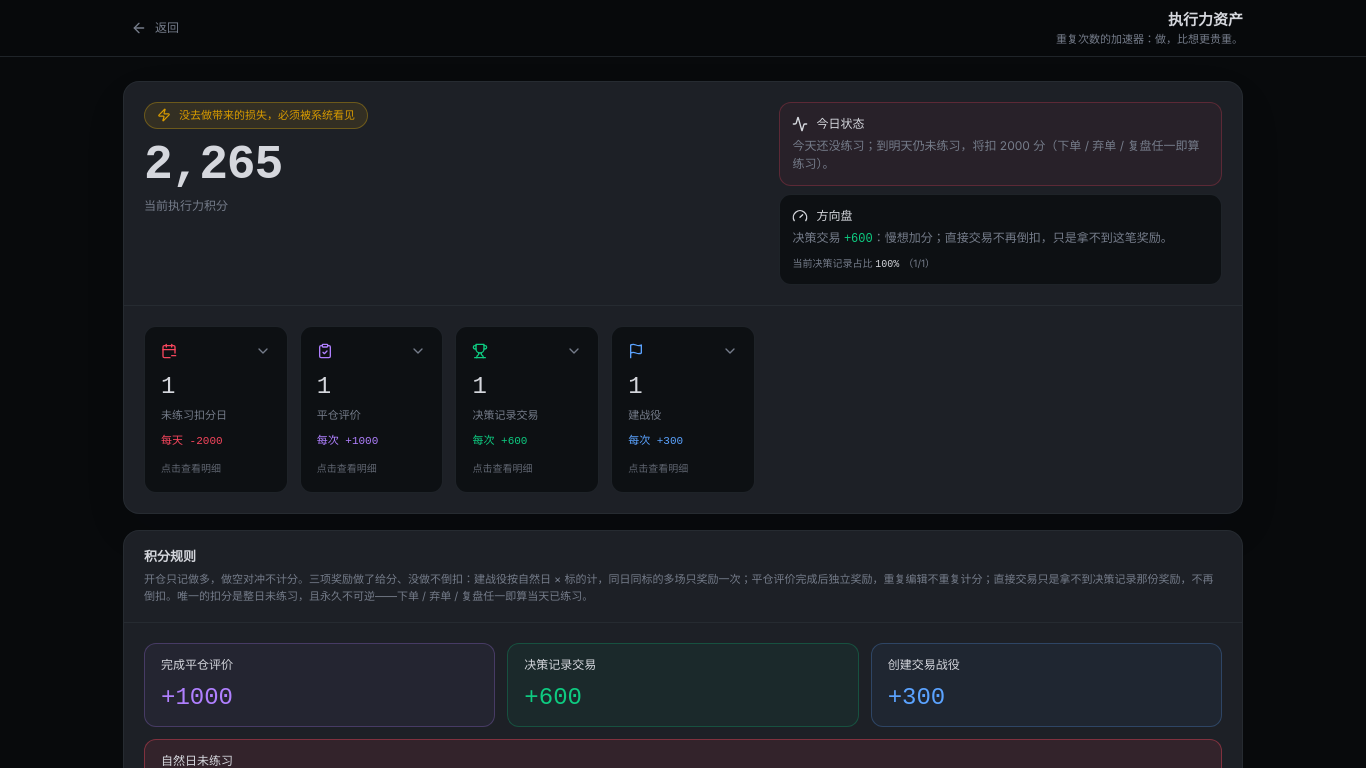
Test case: ExecutionAssetsPage review reward › reconciles completed reviews and exposes the +666 detail panel
Click the button "1 平仓评价 每次 +1000 点击查看明细" at (372, 410), box 300,326 -> 443,493
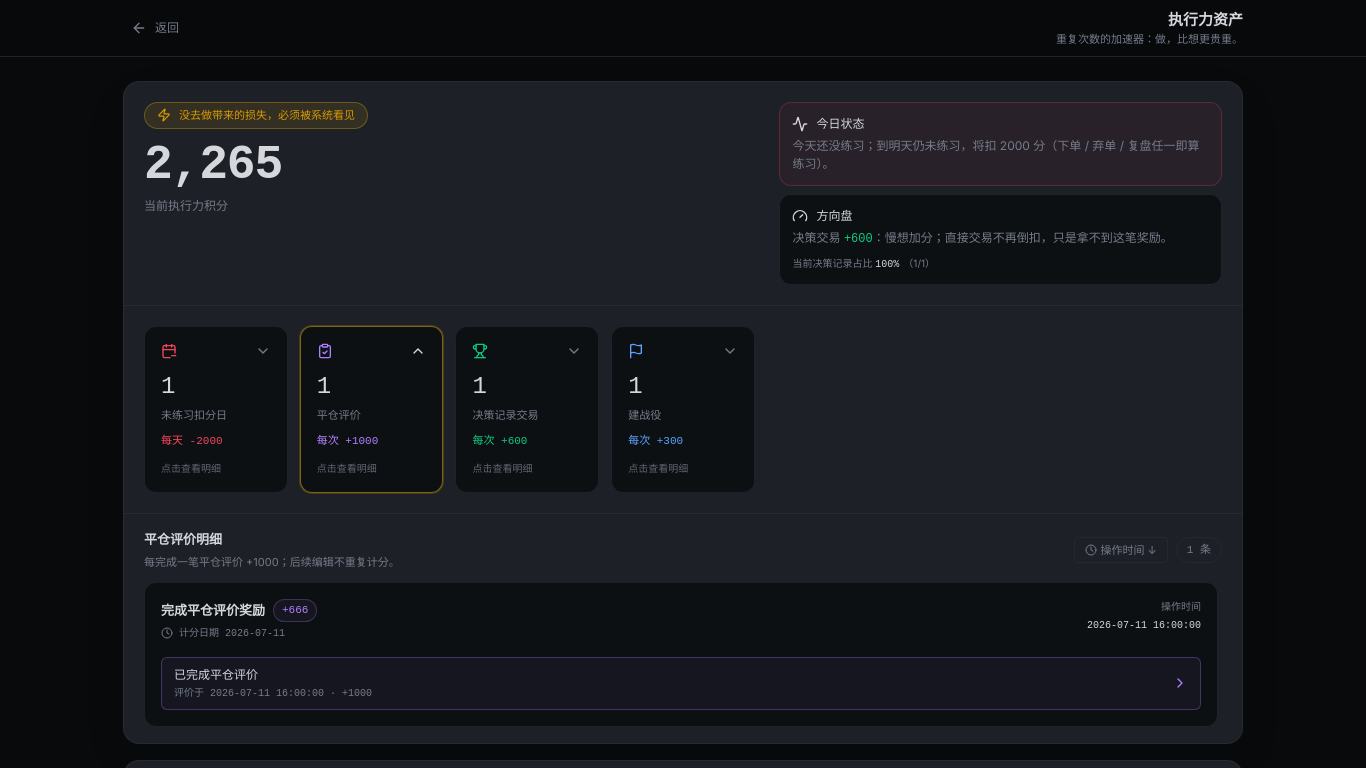
Check: the heading "平仓评价明细" is shown, box 144,531 -> 222,547
